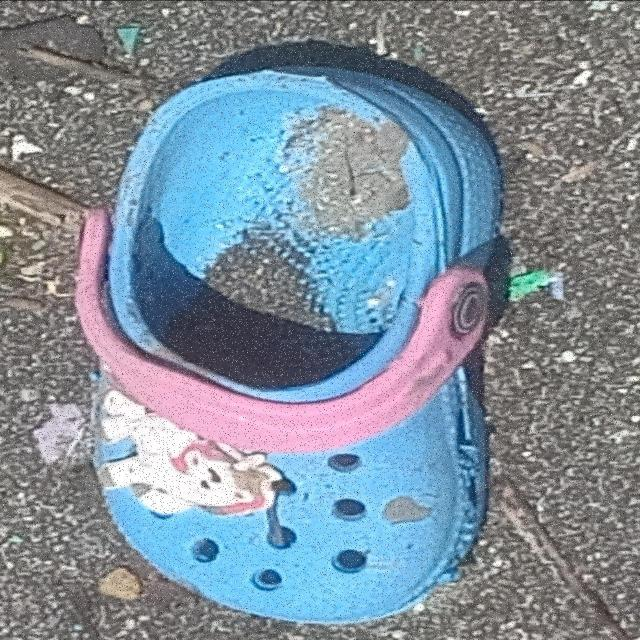rubber_waste: (51, 65, 509, 625)
